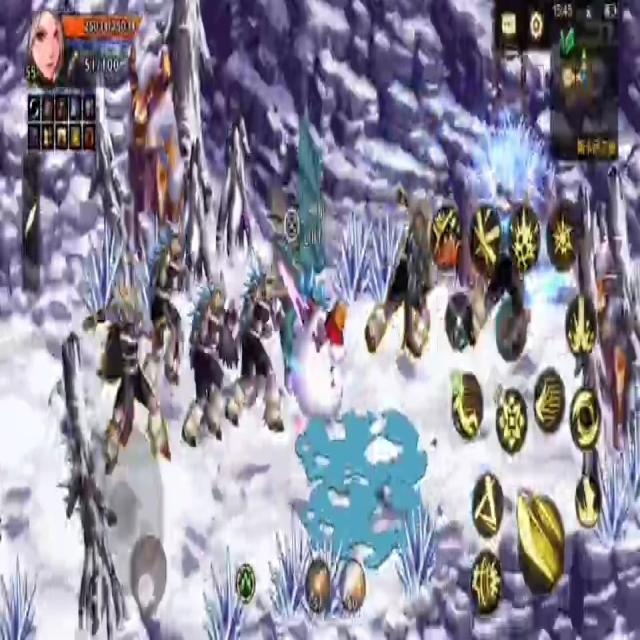player: (294, 278, 348, 440)
